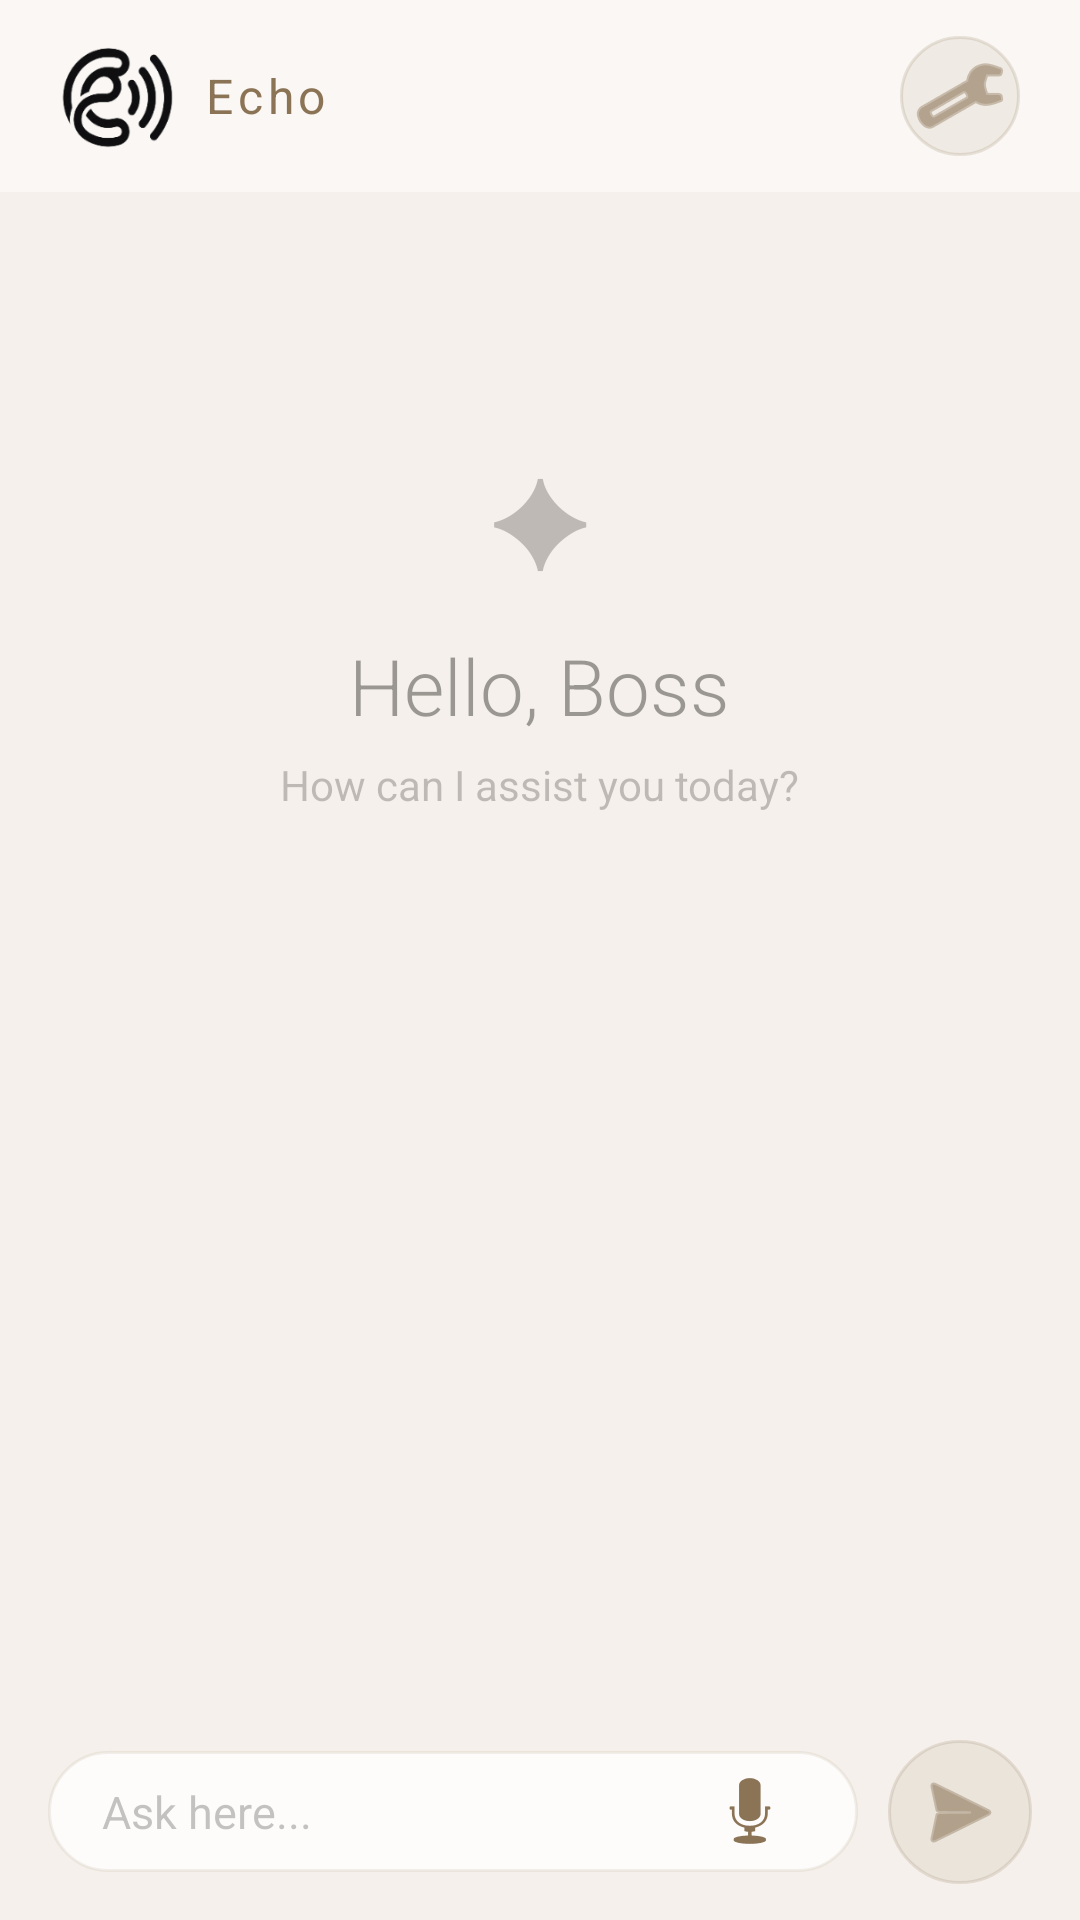

Where to tap for icons on this 1080x1920 app screen, as (x=x, y=y):
Send: (x=960, y=1812)
Settings: (x=960, y=96)
Voice input: (x=750, y=1811)
